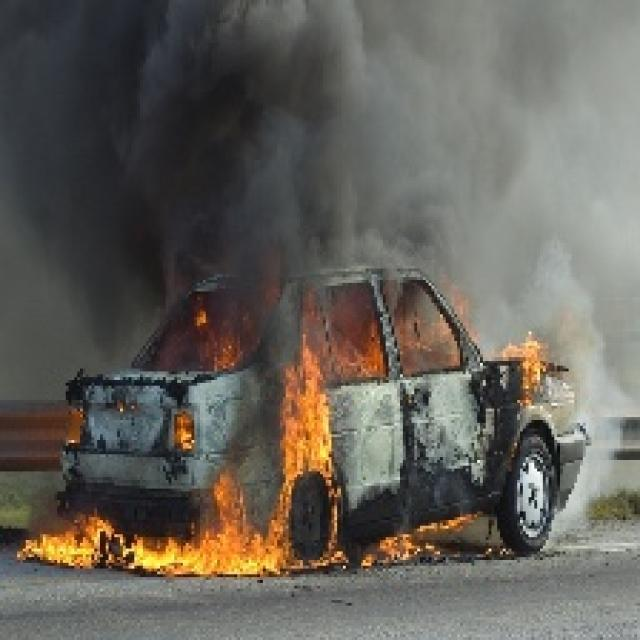Fire: (20, 494, 285, 576), (278, 344, 334, 482)
Smoke: (0, 0, 640, 269)
